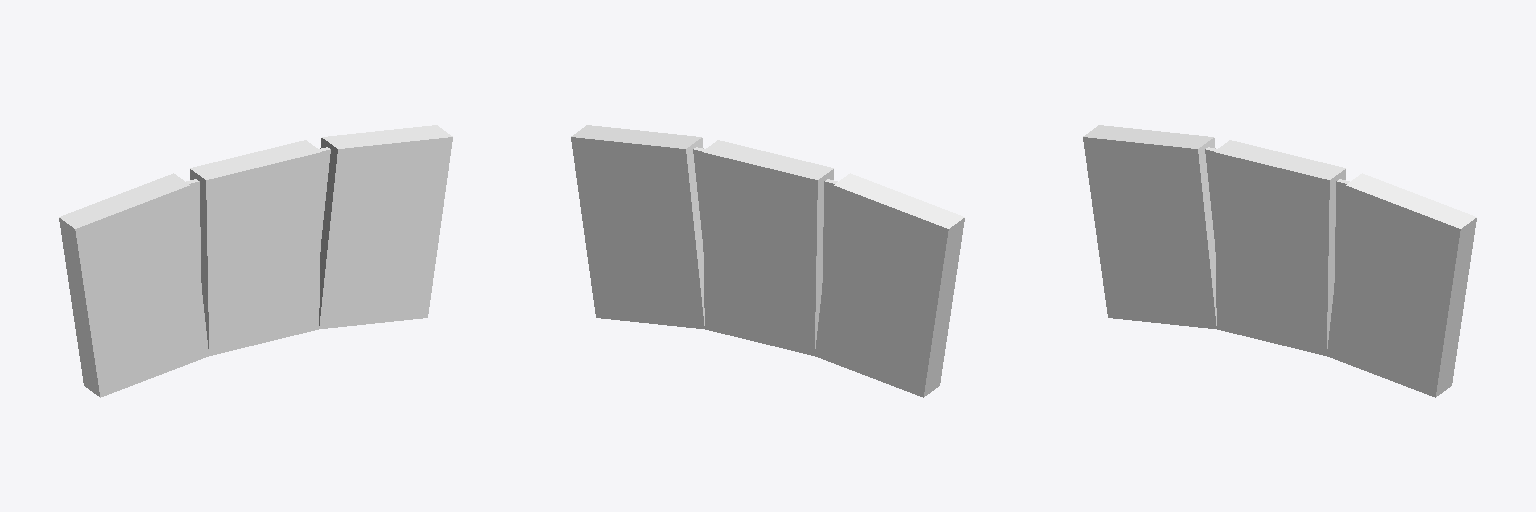
The model's file is generic_facade_segmental_arch_3_middle.obj.
The picture shows the model from 3 angles: view 1: azimuth 30°, elevation 25°; view 2: azimuth 150°, elevation 25°; view 3: azimuth 330°, elevation 25°; orthographic projection.
Parts seen in each view (by area): view 1: arch_3_middle, arch_3_middle_inner; view 2: arch_3_middle, arch_3_middle_inner; view 3: arch_3_middle, arch_3_middle_inner.
Boxes of the visible parts, box(x1,y1,x2,y2) form: arch_3_middle: box(59, 125, 452, 397); arch_3_middle_inner: box(186, 147, 330, 285); arch_3_middle: box(571, 125, 964, 397); arch_3_middle_inner: box(693, 147, 837, 285); arch_3_middle: box(1083, 125, 1476, 397); arch_3_middle_inner: box(1205, 147, 1349, 285).
Bounding box in the file's own units: 1.04 × 0.5034 × 0.0781.